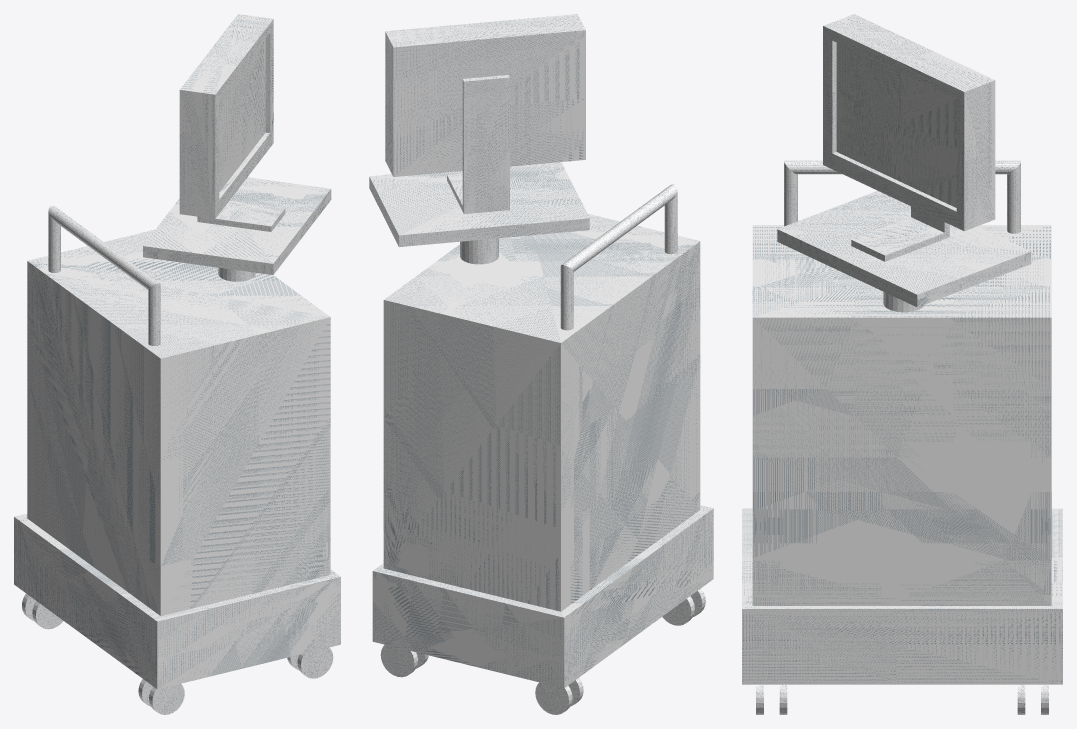
The picture shows the model from 3 angles, left to right: view 1: azimuth 30°, elevation 25°; view 2: azimuth 150°, elevation 25°; view 3: azimuth 270°, elevation 25°; orthographic projection. The views are drawn at different scales.
Parts seen in each view (by area): view 1: M4811_-_Pump__Intra-Aortic__Balloon (×5), FamilyGeomCombination_3064 (×2), FamilyGeomCombination_3012, FamilyGeomCombination_3013, FamilyGeomCombination_3015; view 2: M4811_-_Pump__Intra-Aortic__Balloon (×6), FamilyGeomCombination_3064, FamilyGeomCombination_3015, FamilyGeomCombination_3014, FamilyGeomCombination_3012; view 3: M4811_-_Pump__Intra-Aortic__Balloon (×5), FamilyGeomCombination_3064 (×2).
Boxes of the visible parts, bbox=[...] form: M4811_-_Pump__Intra-Aortic__Balloon (×5): bbox=[14, 177, 340, 689]; FamilyGeomCombination_3064 (×2): bbox=[179, 14, 273, 218]; FamilyGeomCombination_3012: bbox=[149, 684, 184, 714]; FamilyGeomCombination_3013: bbox=[297, 647, 333, 678]; FamilyGeomCombination_3015: bbox=[32, 601, 63, 629]; M4811_-_Pump__Intra-Aortic__Balloon (×6): bbox=[369, 75, 713, 688]; FamilyGeomCombination_3064: bbox=[385, 14, 585, 176]; FamilyGeomCombination_3015: bbox=[535, 682, 572, 714]; FamilyGeomCombination_3014: bbox=[380, 645, 417, 677]; FamilyGeomCombination_3012: bbox=[662, 596, 694, 625]; M4811_-_Pump__Intra-Aortic__Balloon (×5): bbox=[742, 160, 1062, 684]; FamilyGeomCombination_3064 (×2): bbox=[823, 14, 995, 231].
Bounding box in the file's own units: 23.34 × 23 × 51.25.
